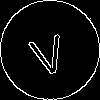V: (25, 25, 70, 78)
